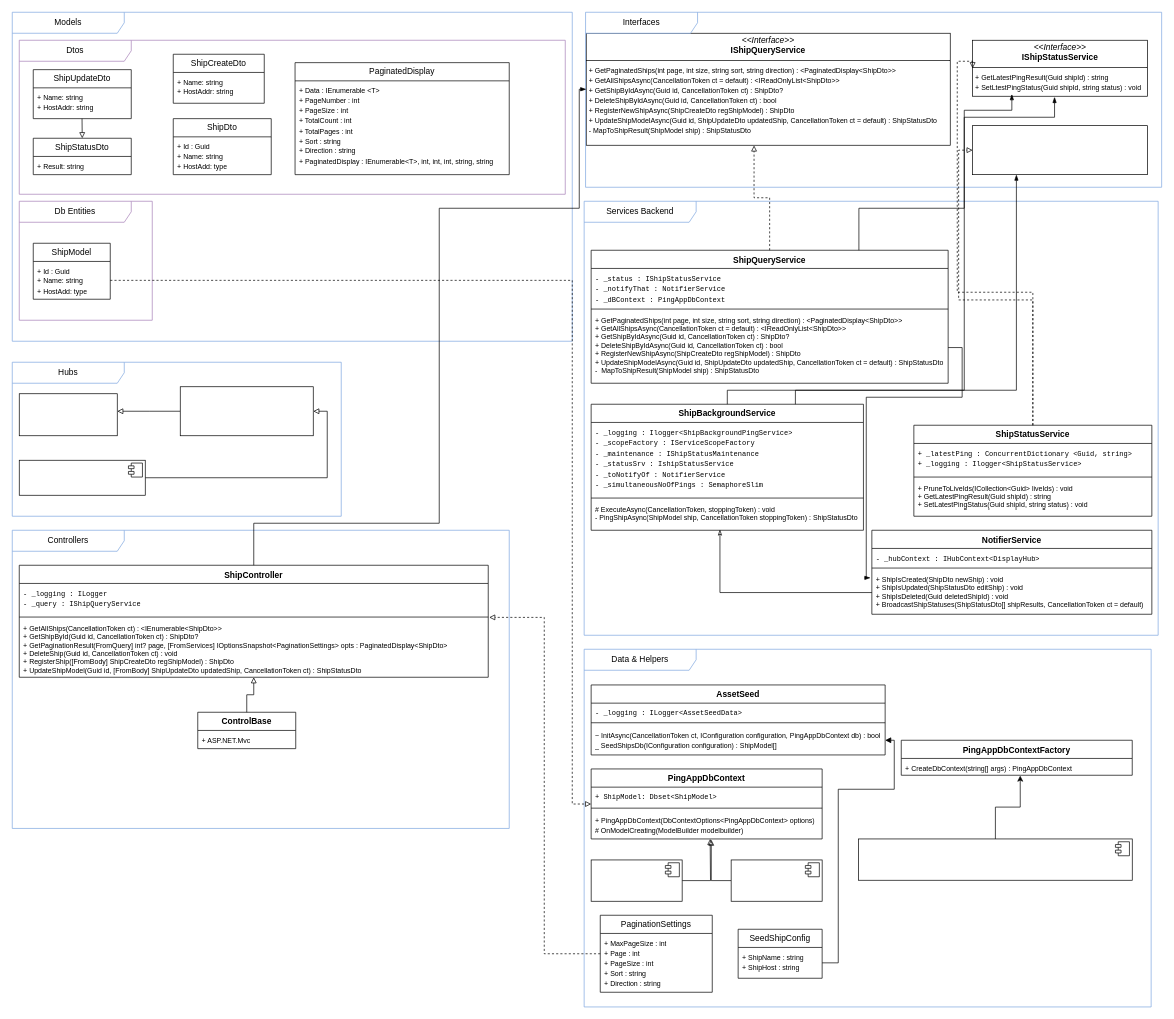
This 1174x1019 diagram has some shape labels left out. Here are the shapes that lost their labels. From the top down, the centre of each, then its label:
At pixel 1060 150: "<<Interface>> I ShipStatusMaintnance + PruneToLiveIds(ICollection<Guid>) : void".
At pixel 68 414: "DisplayHub".
At pixel 246 411: "<<Abstract>> Hub".
At pixel 82 477: "IDisposable ASP.NET".
At pixel 995 859: "<PingAppDbContext> IDesignTimeDbContextFactory + Entity Framework Core".
At pixel 636 880: "dBContext + Entity Framework Core".
At pixel 776 880: "base + Entity Framework Core".
